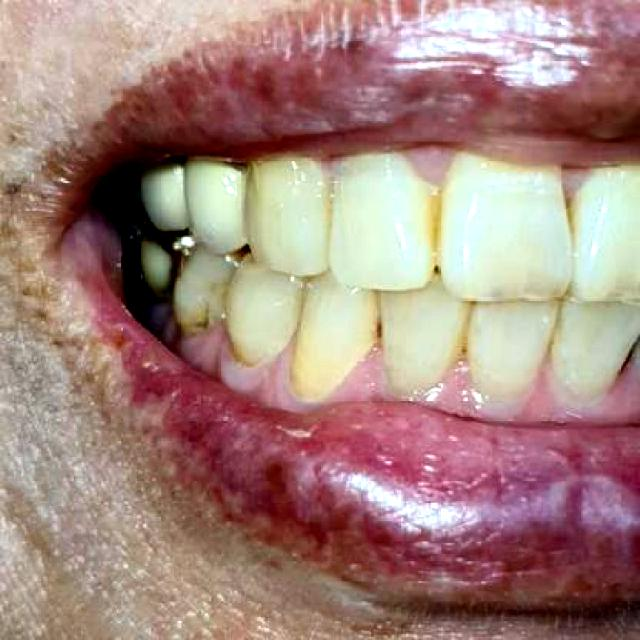Plaque: (192, 299, 212, 332)
